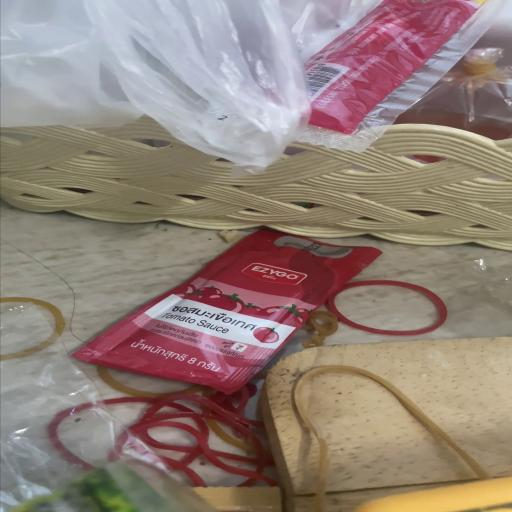brand_golden_good: (262, 337, 512, 512)
